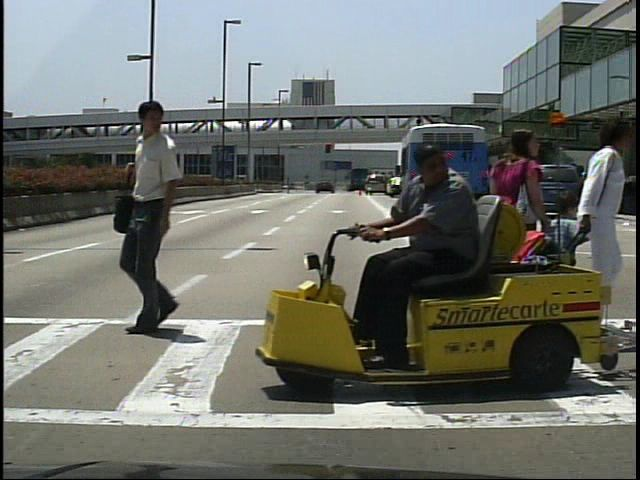person: (352, 144, 499, 372), (559, 111, 639, 358), (113, 100, 191, 335), (478, 125, 550, 357), (548, 189, 584, 329), (581, 166, 601, 216), (485, 162, 504, 212), (501, 166, 519, 218)
